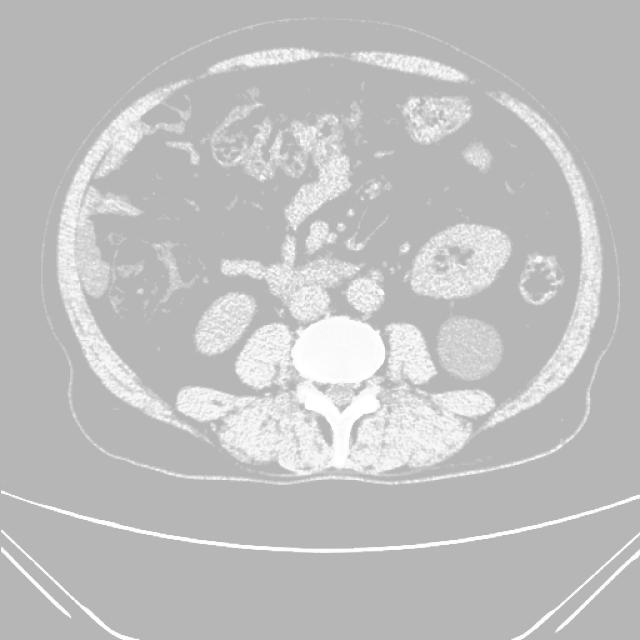cysts: (55, 41, 603, 481)
